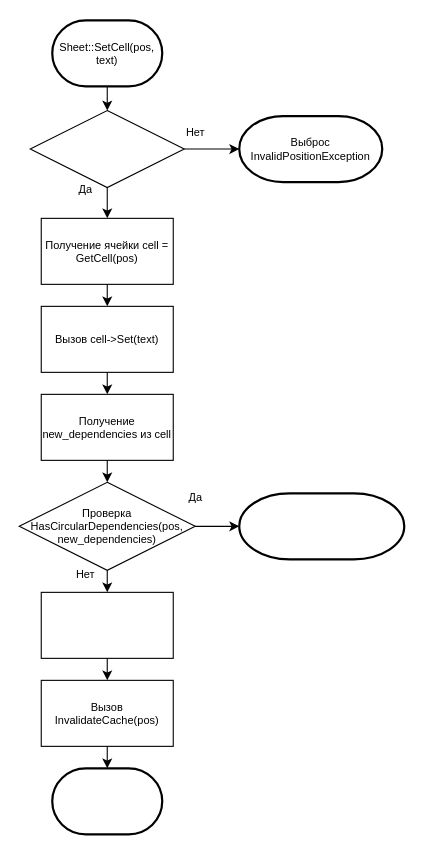
The diagram is 425 pixels wide and 854 high, and some of its shapes have lost their labels. The box of each missing label's shape, as (x1, y1, x2, y2) in pixels:
Выброс CircularDependencyException: (238, 492, 405, 560)
Вызов UpdateDependencies(pos, new_dependencies): (40, 591, 173, 658)
Конец: (51, 767, 163, 835)
Проверка pos.IsValid(): (29, 109, 184, 188)
